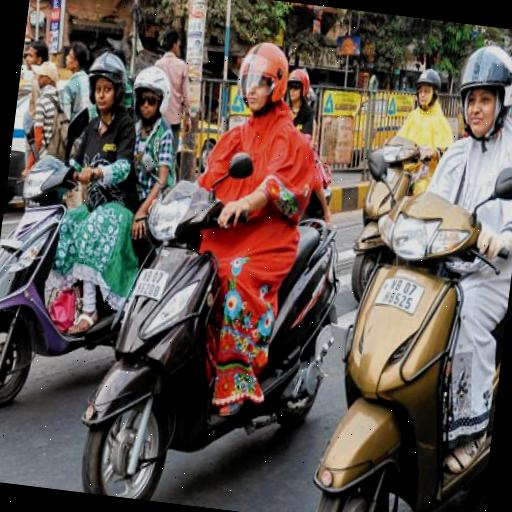helmet: (100, 11, 340, 439), (326, 21, 512, 512), (0, 33, 155, 386)
number plate: (359, 258, 432, 320), (130, 260, 178, 315)
